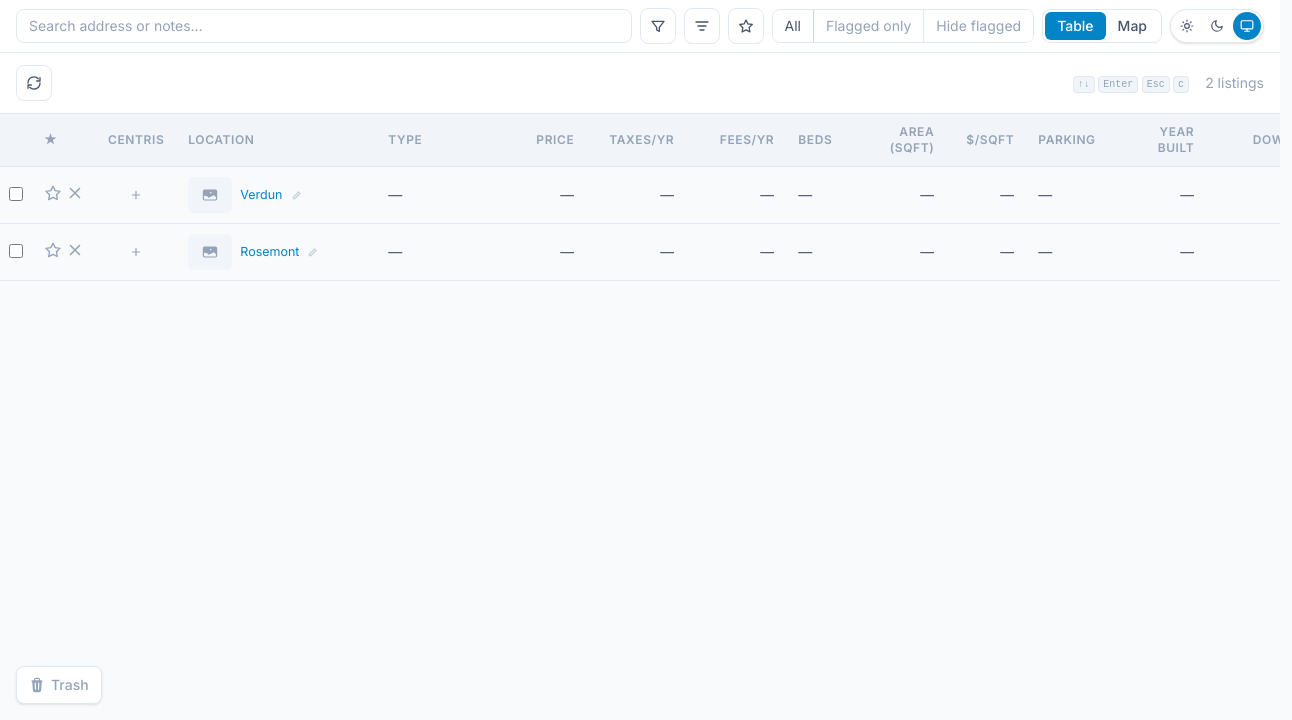
/ search bar › filters the table as the user types
Expected: the link "Verdun" is shown, [240,187,282,203]
Expected: the link "Rosemont" is shown, [240,244,300,260]
In the field with placeholder "Search address or notes…": (324, 26) [16,9,632,43], type "verd"
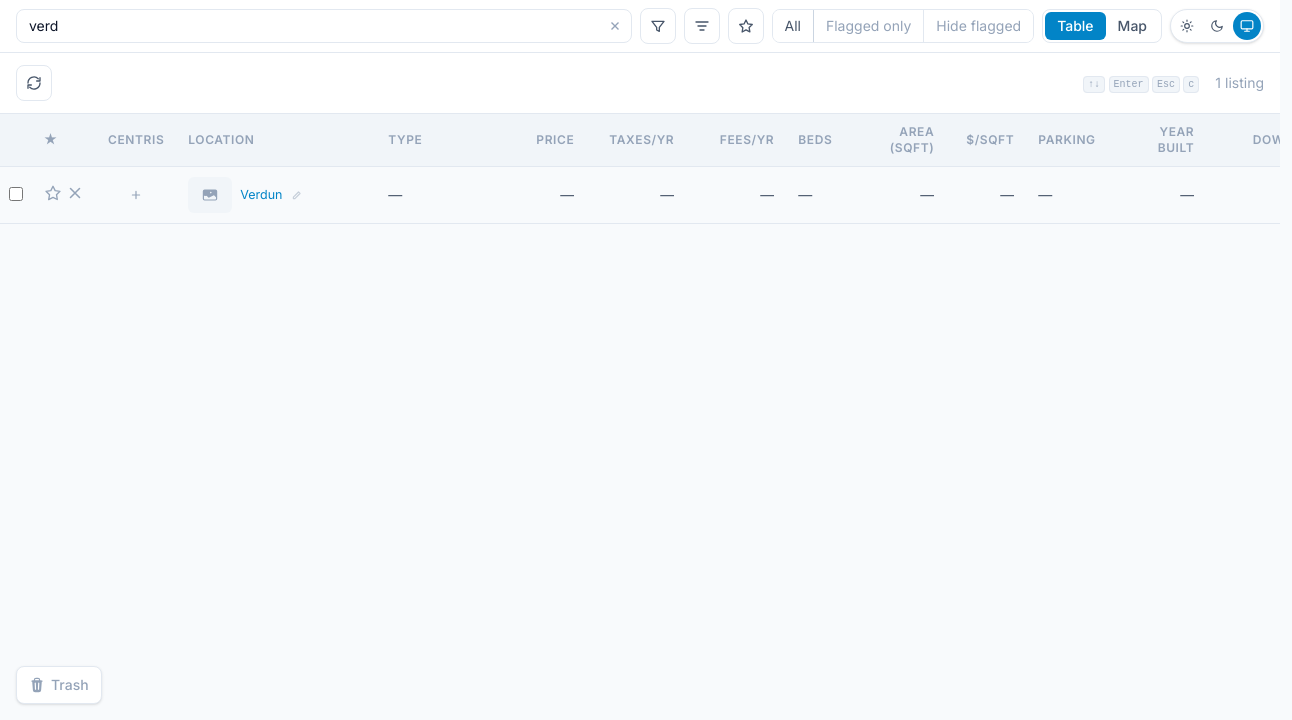
Expected: the link "Verdun" is shown, [240,187,282,203]
Result: the link "Rosemont" is gone
